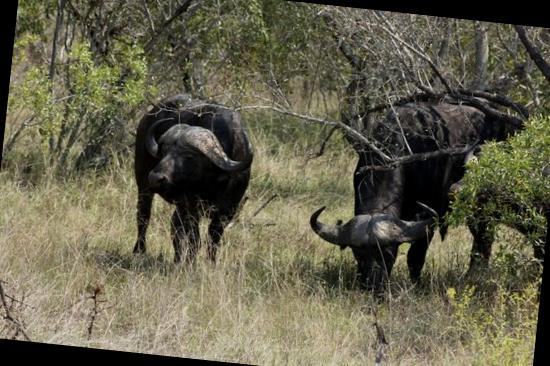Buffalo: (309, 119, 470, 334), (106, 91, 288, 278)
